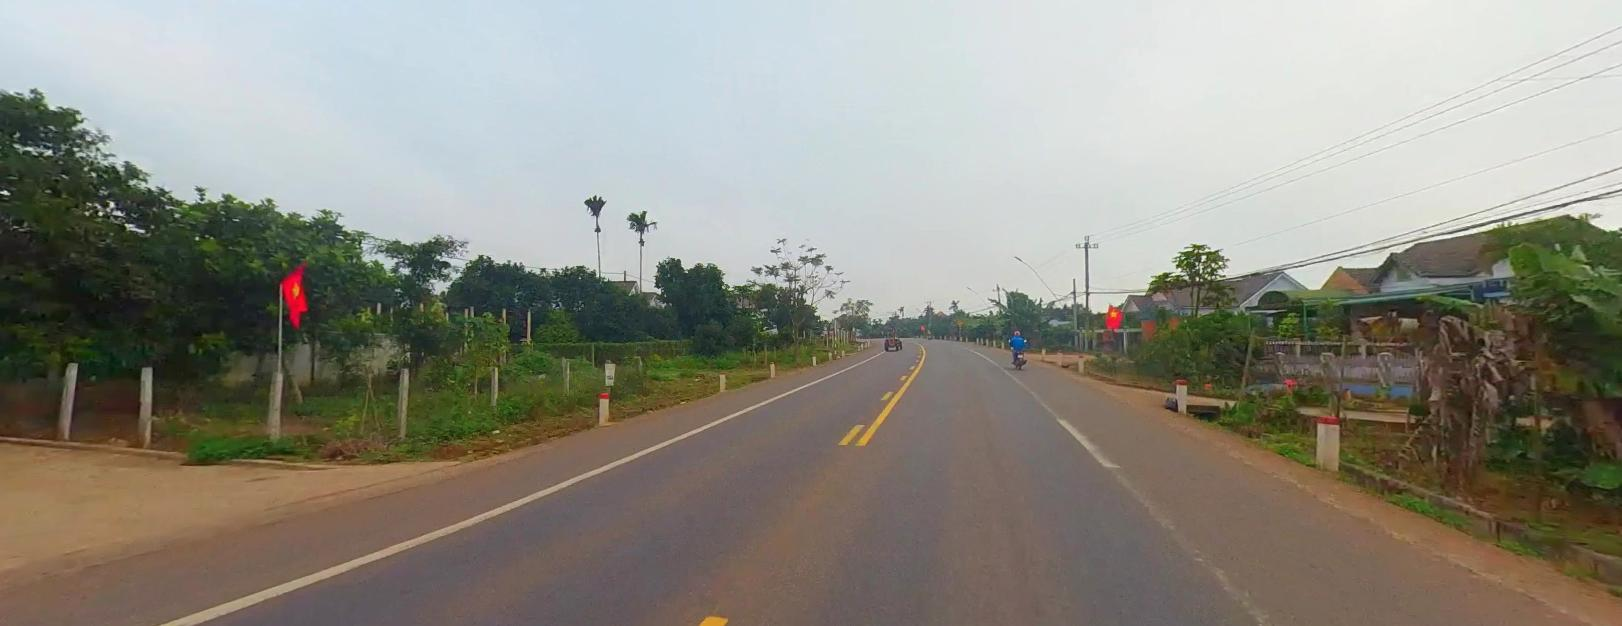Nguy hiem: (955, 317, 962, 324)
